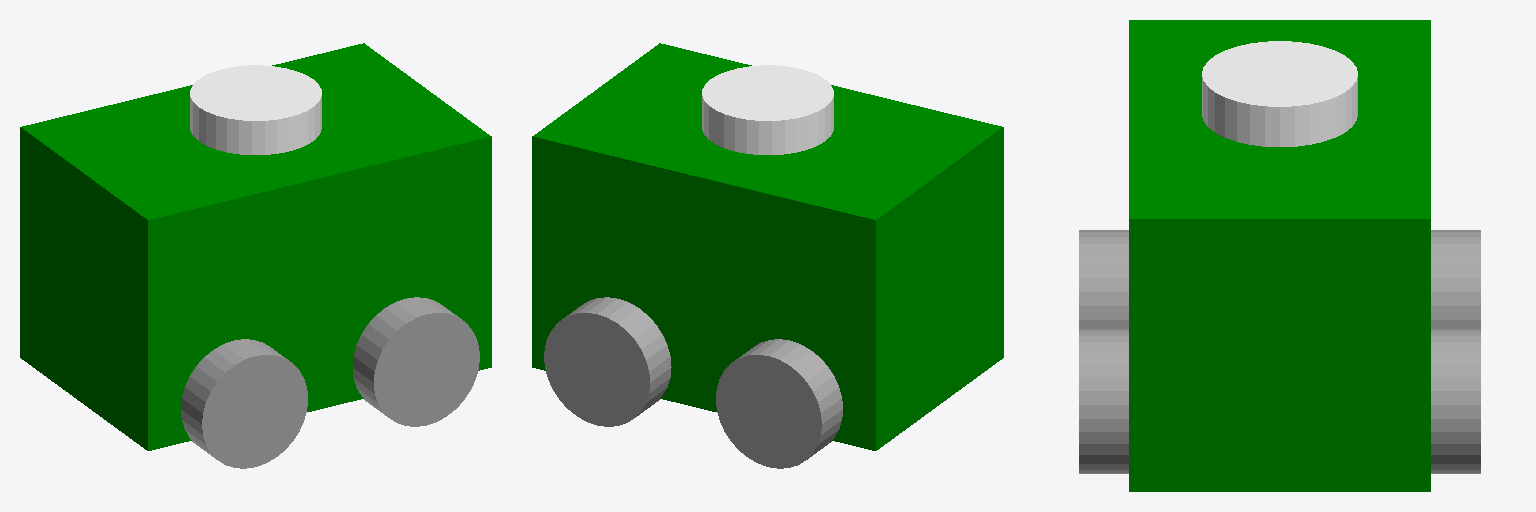
The robot description file, URDF, robot "my_4wheel_robot":
<?xml version="1.0" ?>
<robot name="my_4wheel_robot" xmlns:xacro="http://www.ros.org/wiki/xacro">

  <material name="grey"><color rgba="0.7 0.7 0.7 1" /></material>
  <material name="green"><color rgba="0 0.6 0 1" /></material>
  <material name="white"><color rgba="1 1 1 1" /></material>

  <link name="base_footprint" />

  <joint name="base_joint" type="fixed">
    <parent link="base_footprint" />
    <child link="base_link" />
    <origin xyz="0 0 0" rpy="0 0 0"/>
  </joint>

  <link name="base_link">
    <visual>
      <geometry><box size="0.21 0.135 0.135" /></geometry>
      <origin xyz="0 0 0.08" rpy="0 0 0" />
      <material name="green" />
    </visual>
    <collision>
      <geometry><box size="0.21 0.135 0.135" /></geometry>
      <origin xyz="0 0 0.08" rpy="0 0 0" />
    </collision>
    <inertial>
      <mass value="2.0"/>
      <origin xyz="0 0 0.08" rpy="0 0 0"/>
      <inertia ixx="0.01" ixy="0" ixz="0" iyy="0.01" iyz="0" izz="0.01"/>
    </inertial>
  </link>

  <gazebo reference="base_link">
    <material>Gazebo/Green</material>
    <mu1>0.2</mu1>
    <mu2>0.2</mu2>
  </gazebo>

  <link name="left_back_wheel">
    <visual>
      <geometry><cylinder radius="0.0325" length="0.025" /></geometry>
      <origin xyz="0 0 0" rpy="1.5708 0 0" />
      <material name="grey" />
    </visual>
    <collision>
      <geometry><cylinder radius="0.0325" length="0.025" /></geometry>
      <origin xyz="0 0 0" rpy="1.5708 0 0" />
    </collision>
    <inertial>
      <mass value="0.5"/>
      <inertia ixx="0.0001" ixy="0" ixz="0" iyy="0.0001" iyz="0" izz="0.0001"/>
    </inertial>
  </link>

  <joint name="left_back_wheel_joint" type="continuous">
    <parent link="base_link" />
    <child link="left_back_wheel" />
    <origin xyz="-0.0525 0.0775 0.0325" rpy="0 0 0" />
    <axis xyz="0 1 0" />
  </joint>

  <gazebo reference="left_back_wheel">
    <material>Gazebo/Grey</material>
    <mu1>1.0</mu1><mu2>1.0</mu2>
    <kp>1000000.0</kp><kd>100.0</kd>
  </gazebo>

  <link name="right_back_wheel">
    <visual>
      <geometry><cylinder radius="0.0325" length="0.025" /></geometry>
      <origin xyz="0 0 0" rpy="1.5708 0 0" />
      <material name="grey" />
    </visual>
    <collision>
      <geometry><cylinder radius="0.0325" length="0.025" /></geometry>
      <origin xyz="0 0 0" rpy="1.5708 0 0" />
    </collision>
    <inertial>
      <mass value="0.5"/>
      <inertia ixx="0.0001" ixy="0" ixz="0" iyy="0.0001" iyz="0" izz="0.0001"/>
    </inertial>
  </link>

  <joint name="right_back_wheel_joint" type="continuous">
    <parent link="base_link" />
    <child link="right_back_wheel" />
    <origin xyz="-0.0525 -0.0775 0.0325" rpy="0 0 0" />
    <axis xyz="0 1 0" />
  </joint>

  <gazebo reference="right_back_wheel">
    <material>Gazebo/Grey</material>
    <mu1>1.0</mu1><mu2>1.0</mu2>
    <kp>1000000.0</kp><kd>100.0</kd>
  </gazebo>

  <link name="left_front_wheel">
    <visual>
      <geometry><cylinder radius="0.0325" length="0.025" /></geometry>
      <origin xyz="0 0 0" rpy="1.5708 0 0" />
      <material name="grey" />
    </visual>
    <collision>
      <geometry><cylinder radius="0.0325" length="0.025" /></geometry>
      <origin xyz="0 0 0" rpy="1.5708 0 0" />
    </collision>
    <inertial>
      <mass value="0.5"/>
      <inertia ixx="0.0001" ixy="0" ixz="0" iyy="0.0001" iyz="0" izz="0.0001"/>
    </inertial>
  </link>

  <joint name="left_front_wheel_joint" type="continuous">
    <parent link="base_link" />
    <child link="left_front_wheel" />
    <origin xyz="0.0525 0.0775 0.0325" rpy="0 0 0" />
    <axis xyz="0 1 0" />
  </joint>

  <gazebo reference="left_front_wheel">
    <material>Gazebo/Grey</material>
    <mu1>1.0</mu1><mu2>1.0</mu2>
    <kp>1000000.0</kp><kd>100.0</kd>
  </gazebo>

  <link name="right_front_wheel">
    <visual>
      <geometry><cylinder radius="0.0325" length="0.025" /></geometry>
      <origin xyz="0 0 0" rpy="1.5708 0 0" />
      <material name="grey" />
    </visual>
    <collision>
      <geometry><cylinder radius="0.0325" length="0.025" /></geometry>
      <origin xyz="0 0 0" rpy="1.5708 0 0" />
    </collision>
    <inertial>
      <mass value="0.5"/>
      <inertia ixx="0.0001" ixy="0" ixz="0" iyy="0.0001" iyz="0" izz="0.0001"/>
    </inertial>
  </link>

  <joint name="right_front_wheel_joint" type="continuous">
    <parent link="base_link" />
    <child link="right_front_wheel" />
    <origin xyz="0.0525 -0.0775 0.0325" rpy="0 0 0" />
    <axis xyz="0 1 0" />
  </joint>

  <gazebo reference="right_front_wheel">
    <material>Gazebo/Grey</material>
    <mu1>1.0</mu1><mu2>1.0</mu2>
    <kp>1000000.0</kp><kd>100.0</kd>
  </gazebo>

  <link name="lidar">
    <visual>
      <geometry><cylinder radius="0.035" length="0.02" /></geometry>
      <material name="white"/>
    </visual>
    <collision>
      <geometry><cylinder radius="0.035" length="0.02" /></geometry>
    </collision>
    <inertial>
      <mass value="0.1"/>
      <inertia ixx="0.0001" ixy="0" ixz="0" iyy="0.0001" iyz="0" izz="0.0001"/>
    </inertial>
  </link>

  <joint name="base_lidar_joint" type="fixed">
    <parent link="base_link" />
    <child link="lidar" />
    <origin xyz="0 0 0.16" rpy="0 0 0" /> 
  </joint>

  <gazebo>
    <plugin name="skid_steer_drive" filename="libgazebo_ros_diff_drive.so">
      <ros><namespace>/</namespace></ros>
      <num_wheel_pairs>2</num_wheel_pairs>
      <left_joint>left_front_wheel_joint</left_joint>
      <left_joint>left_back_wheel_joint</left_joint>
      <right_joint>right_front_wheel_joint</right_joint>
      <right_joint>right_back_wheel_joint</right_joint>
      <wheel_separation>0.155</wheel_separation>
      <wheel_diameter>0.065</wheel_diameter>
      <publish_odom>true</publish_odom>
      <publish_odom_tf>true</publish_odom_tf>
      <publish_wheel_tf>true</publish_wheel_tf>
      <odometry_frame>odom</odometry_frame>
      <robot_base_frame>base_footprint</robot_base_frame>
    </plugin>
  </gazebo>

  <gazebo reference="lidar">
    <sensor name="laser" type="ray">
      <visualize>true</visualize>
      <update_rate>10</update_rate>
      <ray>
        <scan>
          <horizontal>
            <samples>360</samples>
            <min_angle>-3.14</min_angle>
            <max_angle>3.14</max_angle>
          </horizontal>
        </scan>
        <range><min>0.12</min><max>12.0</max></range>
      </ray>
      <plugin name="laser_controller" filename="libgazebo_ros_ray_sensor.so">
        <ros><argument>~/out:=scan</argument></ros>
        <output_type>sensor_msgs/LaserScan</output_type>
        <frame_name>lidar</frame_name>
      </plugin>
    </sensor>
  </gazebo>
</robot>

--- Facts derived from the render (not from the file) ---
Views: 3 orthographic renders of the robot side by side, from view 1: azimuth 30°, elevation 25°; view 2: azimuth 150°, elevation 25°; view 3: azimuth 270°, elevation 25°.
Robot: my_4wheel_robot — 7 links, 6 joints (4 continuous, 2 fixed); root link base_footprint; default pose: every joint at zero.
Visible links, largest first — view 1: base_link, right_front_wheel, right_back_wheel, lidar; view 2: base_link, left_front_wheel, left_back_wheel, lidar; view 3: base_link, lidar, left_front_wheel, right_front_wheel, left_back_wheel, right_back_wheel.
Link boxes in pixels (x1,y1,x2,y2): base_link: (20, 43, 491, 450); right_front_wheel: (352, 297, 479, 426); right_back_wheel: (181, 339, 307, 468); lidar: (190, 65, 321, 154); base_link: (532, 43, 1003, 450); left_front_wheel: (544, 297, 671, 426); left_back_wheel: (716, 339, 842, 468); lidar: (702, 65, 833, 154); base_link: (1129, 20, 1430, 491); lidar: (1202, 41, 1357, 146); left_front_wheel: (1431, 329, 1480, 473); right_front_wheel: (1079, 329, 1128, 473); left_back_wheel: (1431, 230, 1480, 328); right_back_wheel: (1079, 230, 1128, 328).
Size in the robot's own frame: 0.21 by 0.18 by 0.17 metres.
Geometry: primitives only (box / cylinder / sphere), no mesh files.
